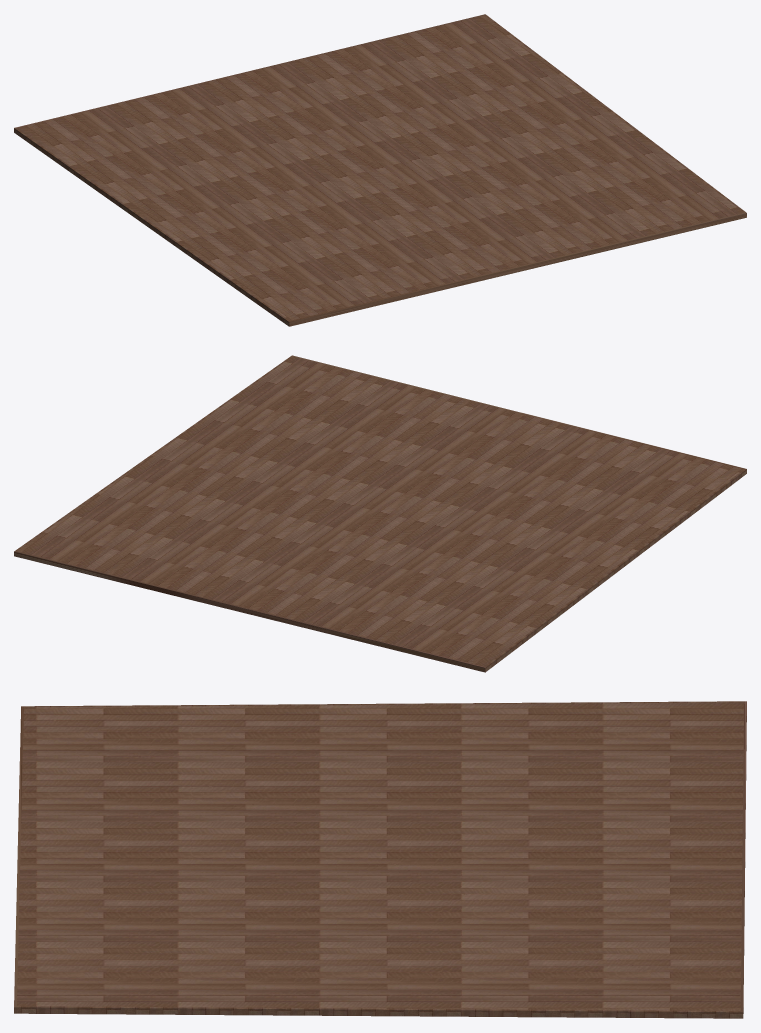
3 views of the same model, one above another, from view 1: azimuth 30°, elevation 25°; view 2: azimuth 150°, elevation 25°; view 3: azimuth 270°, elevation 25° (orthographic). The views are drawn at different scales.
Parts seen in each view (by area): view 1: Floor#0_0; view 2: Floor#0_0; view 3: Floor#0_0.
Boxes of the visible parts, <box> form: Floor#0_0: <box>14,14,746,326</box>; Floor#0_0: <box>14,355,746,672</box>; Floor#0_0: <box>14,701,746,1018</box>.
Size of the model in its own units: 5.2 by 0.05 by 5.18.
1 material, 1 textured.
